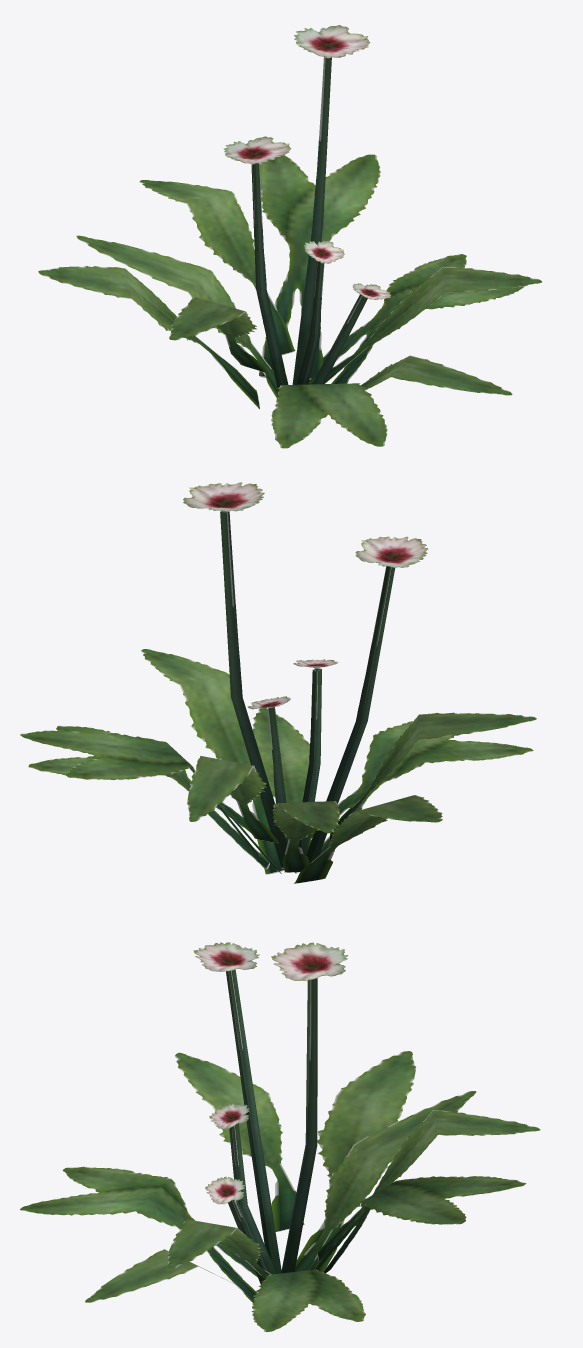
The model's file is Yland3_zb_01 Yland3.FBX.
3 renders of one model, top to bottom at view 1: azimuth 30°, elevation 25°; view 2: azimuth 150°, elevation 25°; view 3: azimuth 270°, elevation 25°, orthographic. The views are drawn at different scales.
Visible parts, largest first — view 1: Yland3_zb_01 Yland3; view 2: Yland3_zb_01 Yland3; view 3: Yland3_zb_01 Yland3.
Part boxes in pixels (x1,y1,x2,y2): Yland3_zb_01 Yland3: (38,25,541,448); Yland3_zb_01 Yland3: (20,482,536,883); Yland3_zb_01 Yland3: (20,942,540,1331).
Size of the model in its own units: 12.9 by 9.94 by 13.47.
